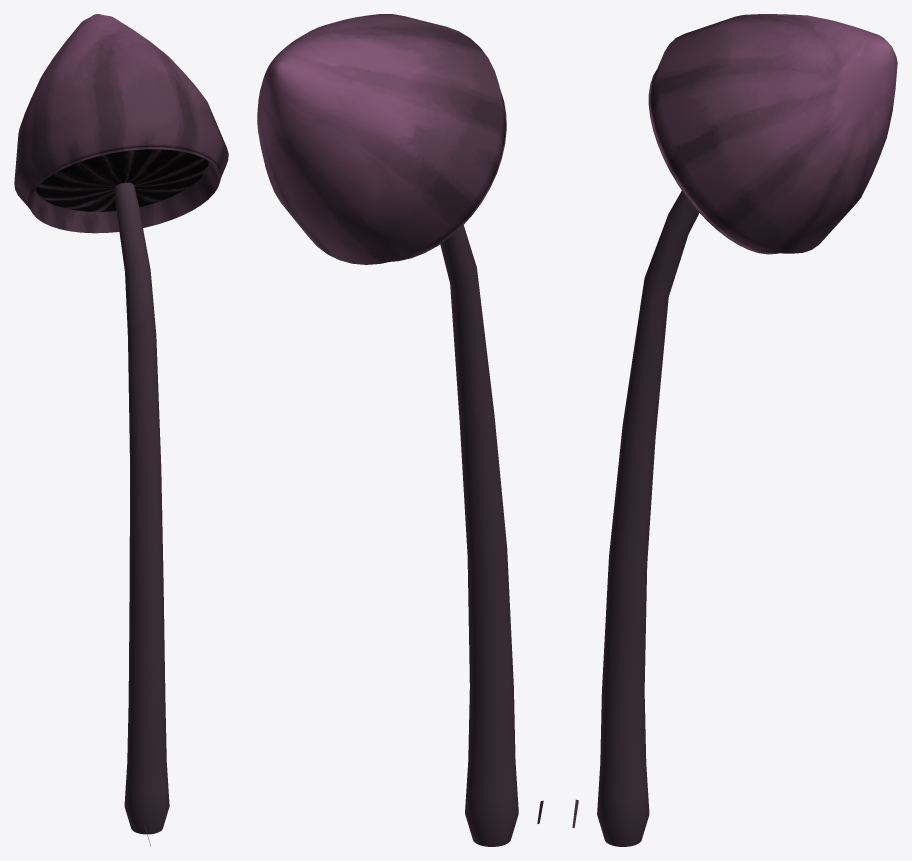
Rendered from Lank Mushroom 2.fbx.
3 views of the same model, side by side, from view 1: azimuth 30°, elevation 25°; view 2: azimuth 150°, elevation 25°; view 3: azimuth 270°, elevation 25° (orthographic). The views are drawn at different scales.
Visible parts, largest first — view 1: pasted__pasted__pasted__pCylinder1; view 2: pasted__pasted__pasted__pCylinder1; view 3: pasted__pasted__pasted__pCylinder1.
Part boxes in pixels (left/top/right/bottom): pasted__pasted__pasted__pCylinder1: left=14, top=14, right=228, bottom=834; pasted__pasted__pasted__pCylinder1: left=257, top=14, right=518, bottom=846; pasted__pasted__pasted__pCylinder1: left=597, top=14, right=897, bottom=846.
Bounding box in the file's own units: 1.49 × 5.62 × 1.97.
2 materials, 2 textured.
